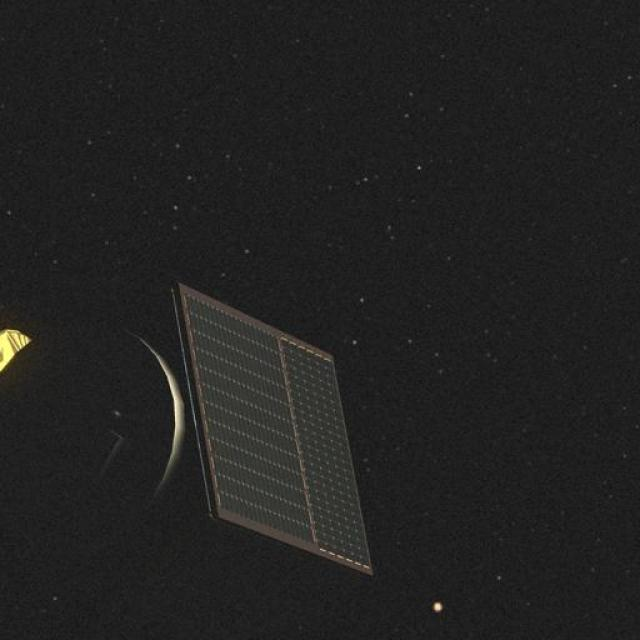cheops: (0, 304, 386, 581)
